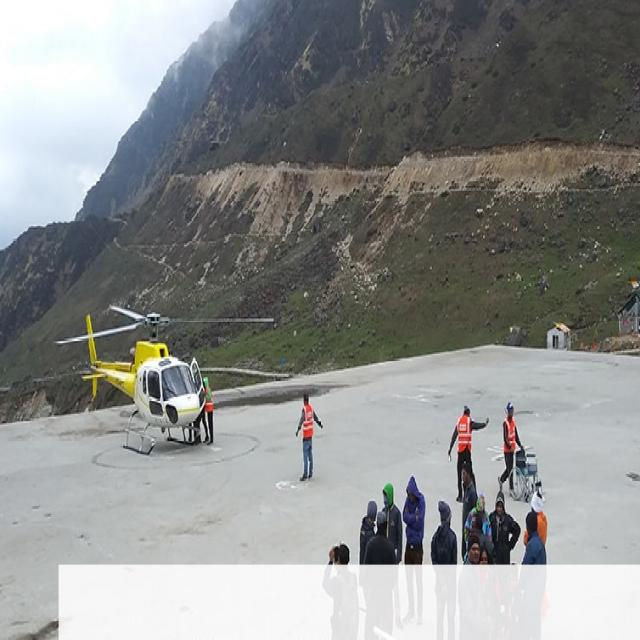helicopter: (51, 266, 295, 463)
